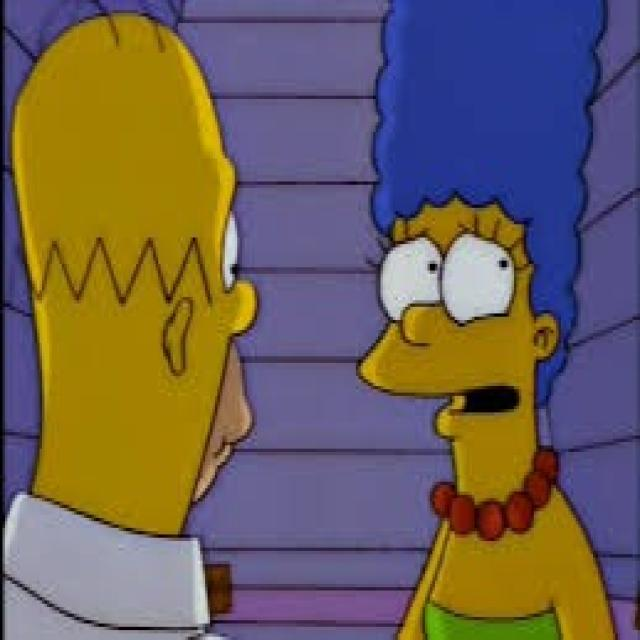Homer Simpson: (0, 0, 267, 551)
Marge Simpson: (347, 0, 612, 551)
